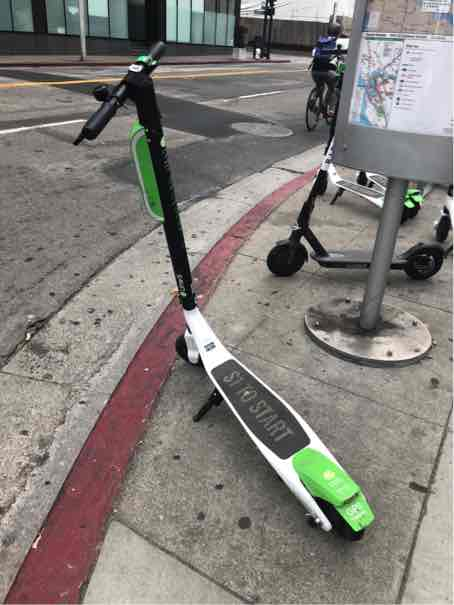scooter: (61, 40, 386, 546)
